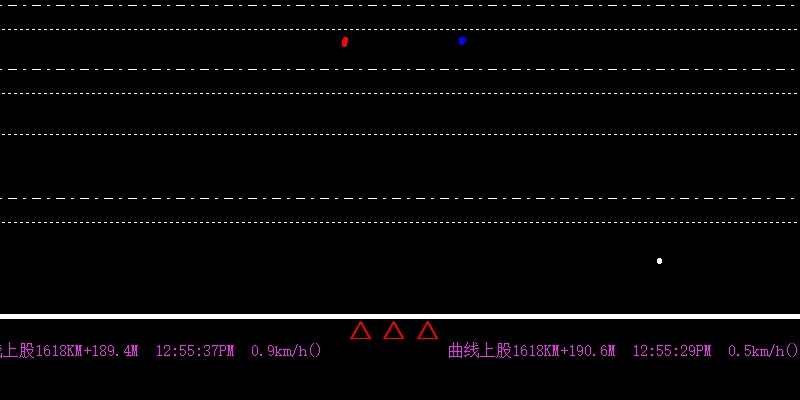face_down: (339, 24, 349, 50), (457, 25, 468, 47)
